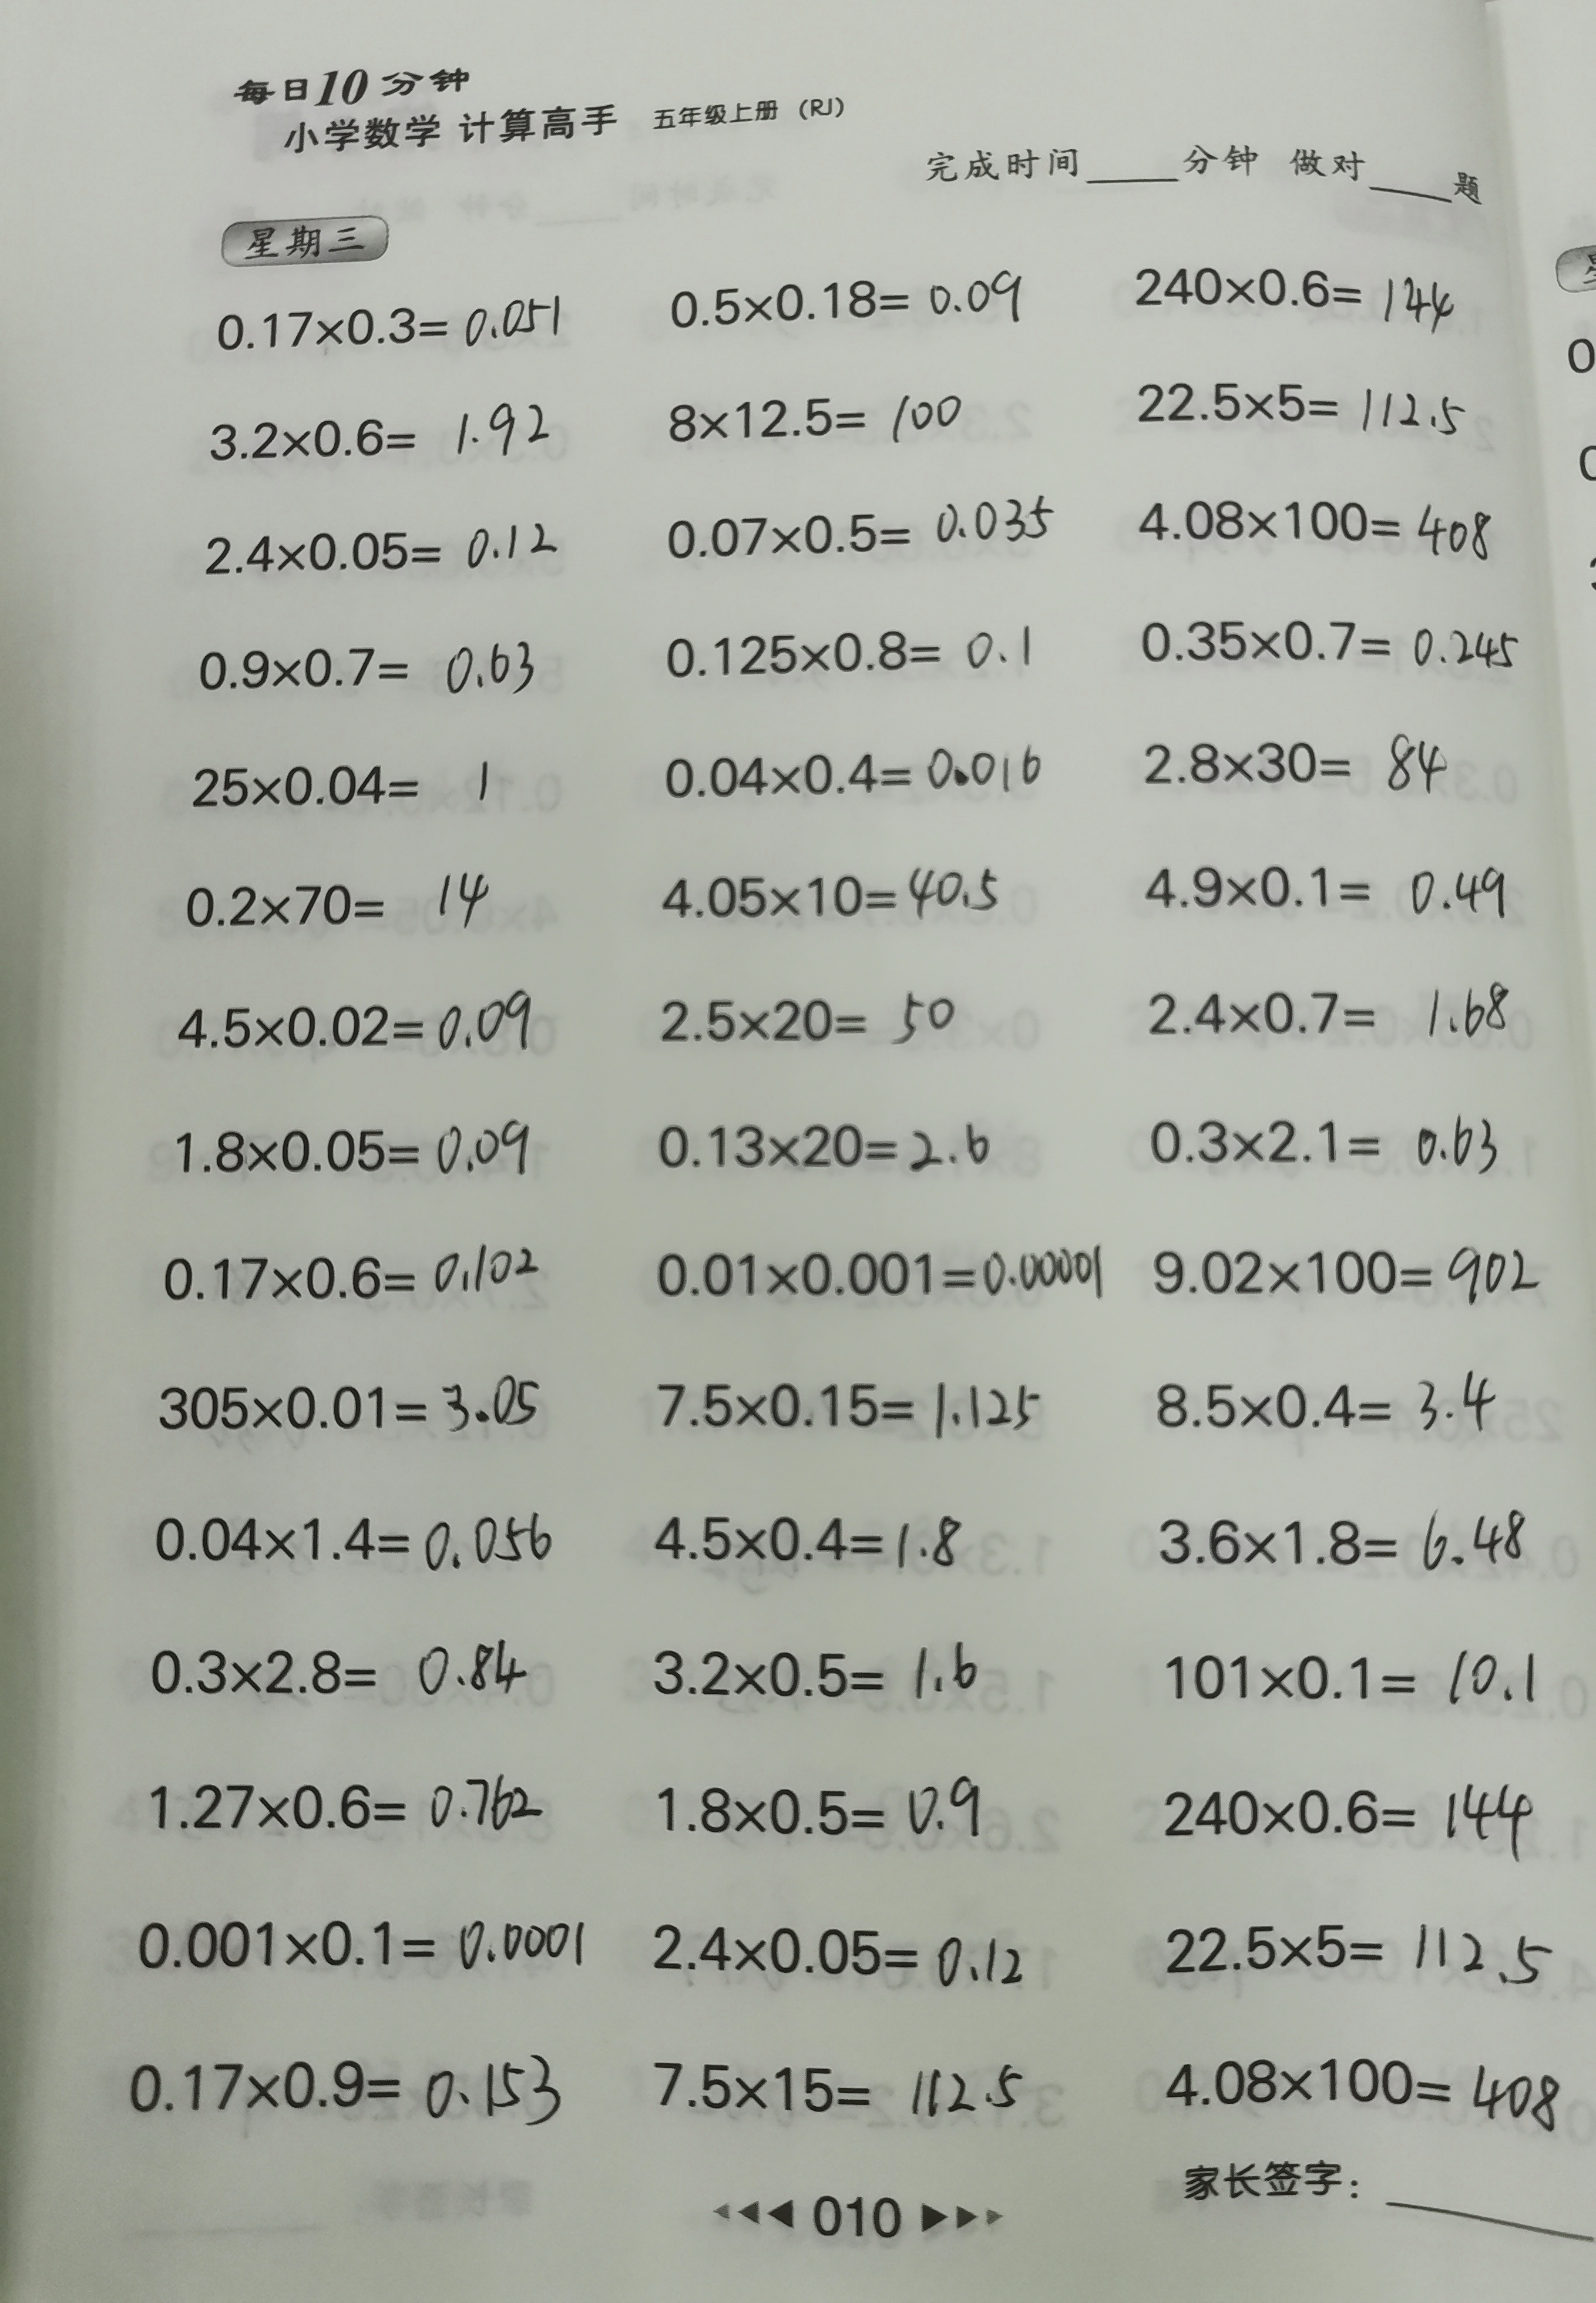equation: (114, 2033, 581, 2138), (1141, 1893, 1559, 2004), (135, 1892, 598, 1988), (1146, 2037, 1578, 2140), (639, 1230, 1122, 1319), (1143, 1764, 1554, 1864), (135, 1491, 563, 1584), (1137, 1498, 1550, 1594), (1143, 1631, 1556, 1727), (644, 1906, 1038, 2002), (1132, 1094, 1519, 1190), (1146, 1222, 1543, 1314), (1120, 968, 1528, 1057), (135, 1624, 534, 1715), (635, 2037, 1038, 2126), (639, 724, 1060, 808), (646, 481, 1066, 565), (1127, 842, 1528, 929), (639, 1762, 1017, 1855), (135, 1766, 562, 1844), (1130, 1361, 1522, 1447), (639, 1367, 1064, 1445), (1122, 481, 1503, 569), (177, 623, 556, 710), (1118, 248, 1466, 343), (1116, 367, 1480, 457), (1137, 605, 1526, 688), (147, 1367, 567, 1442), (157, 850, 518, 938), (145, 1228, 553, 1305), (646, 1099, 1010, 1185), (637, 1620, 997, 1706), (150, 982, 555, 1057), (163, 742, 527, 824), (649, 845, 1020, 926), (185, 388, 572, 465), (651, 264, 1038, 339), (1129, 724, 1473, 807), (640, 614, 1046, 682), (644, 975, 980, 1057), (189, 282, 581, 352), (177, 513, 586, 579), (639, 1494, 973, 1575), (159, 1115, 549, 1183), (653, 378, 976, 450)
